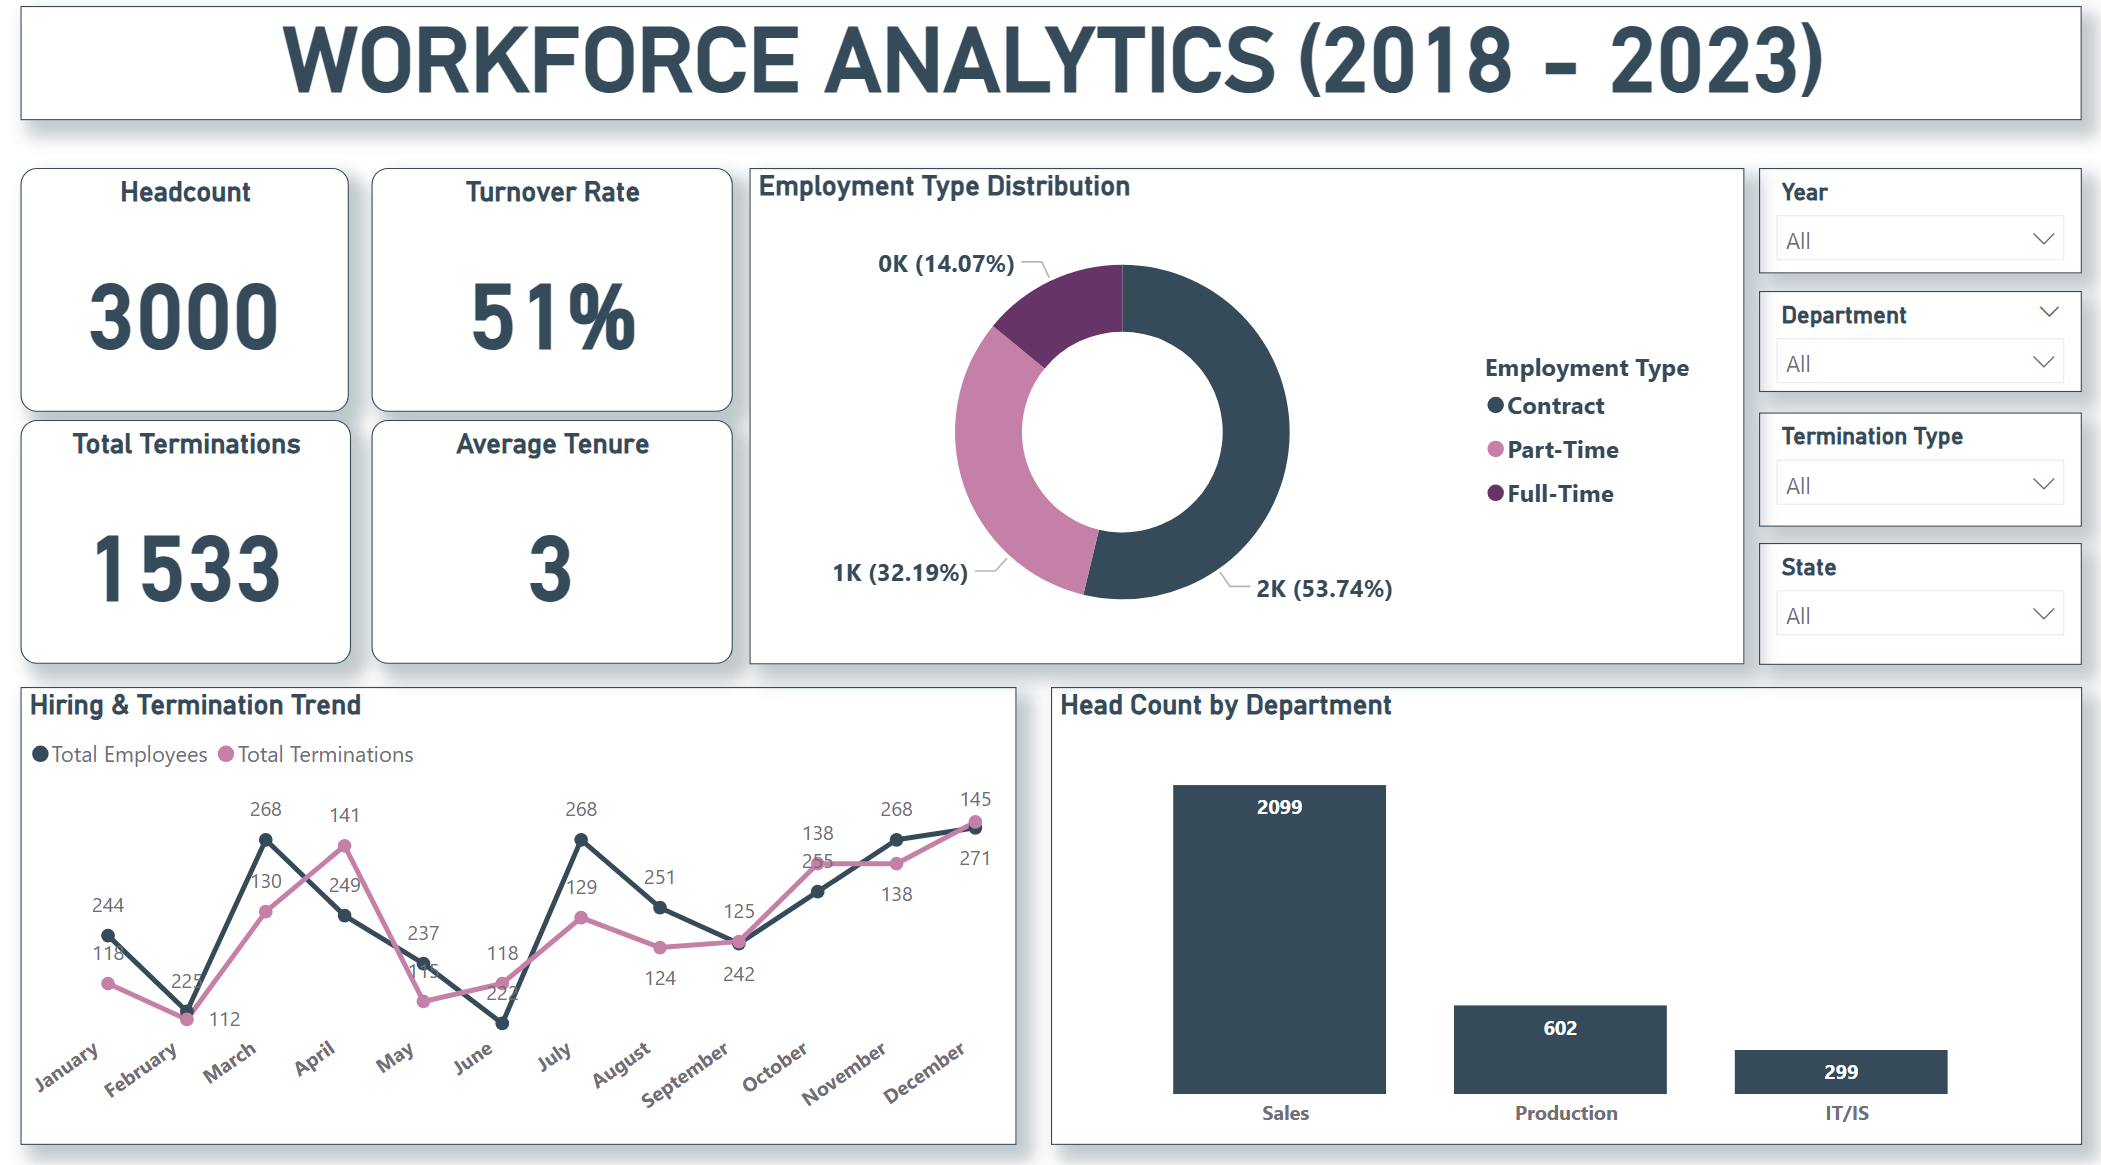

Layout of this report page (visuals, bound fields, positions):
{"tool":"powerbi","page":{"name":"Overview","canvas":[1280,720],"ordinal":0},"visuals":[{"type":"card","title":"Headcount","fields":{"Values":["KPI_TABLE.Total Employees"]},"box":[13.9,107.8,199.3,148.3],"z":0},{"type":"card","title":"Total Terminations","fields":{"Values":["KPI_TABLE.Total Terminations"]},"box":[13.9,260.7,200.5,148.3],"z":1000},{"type":"card","title":"Turnover Rate","fields":{"Values":["KPI_TABLE.Termination Rate"]},"box":[227.1,107.8,219,148.3],"z":2000},{"type":"clusteredColumnChart","title":"Head Count by Department","fields":{"Y":["KPI_TABLE.Total Employees"],"Category":["DIM_ORGANIZATION.DepartmentType"]},"box":[639.6,422.9,625.7,278.1],"z":3000},{"type":"slicer","fields":{"Values":["DIM_DATE.Year"]},"box":[1069.5,107.8,195.8,63.7],"z":4000},{"type":"slicer","fields":{"Values":["DIM_ORGANIZATION.DepartmentType"]},"box":[1069.5,181.9,195.8,61.4],"z":5000},{"type":"slicer","fields":{"Values":["DIM_ORGANIZATION.Division"]},"box":[1069.5,256.1,195.8,69.5],"z":6000},{"type":"lineChart","title":"Hiring & Termination Trend","fields":{"Y":["KPI_TABLE.Total Employees"],"Category":["DIM_DATE.MonthName"],"Y2":["KPI_TABLE.Total Terminations"]},"box":[13.9,422.9,604.9,278.1],"z":7000},{"type":"textbox","title":"WORKFORCE ANALYTICS (2018 - 2023)","box":[13.9,9.3,1251.4,69.5],"z":8000},{"type":"slicer","fields":{"Values":["DIM_LOCATION.State"]},"box":[1069.5,334.9,195.8,74.2],"z":9000},{"type":"card","title":"Average Tenure","fields":{"Values":["KPI_TABLE.Average Tenure"]},"box":[227.1,260.7,219,148.3],"z":10000},{"type":"donutChart","title":"Employment Type Distribution","fields":{"Y":["KPI_TABLE.Total Employees"],"Category":["DIMJOB_TEMP.EmployeeType"]},"box":[456.5,107.8,603.7,301.3],"z":11000}]}

Visuals, with their boxes in screenshot pixels (x1, y1, x2, y2), scaled from the page's 1280x720 canvas onto the 2101x1165 screenshot:
"Headcount" card: [23, 174, 350, 414]
"Total Terminations" card: [23, 422, 352, 662]
"Turnover Rate" card: [373, 174, 732, 414]
"Head Count by Department" clusteredColumnChart: [1050, 684, 2077, 1134]
slicer - DIM_DATE.Year: [1755, 174, 2077, 277]
slicer - DIM_ORGANIZATION.DepartmentType: [1755, 294, 2077, 394]
slicer - DIM_ORGANIZATION.Division: [1755, 414, 2077, 527]
"Hiring & Termination Trend" lineChart: [23, 684, 1016, 1134]
"WORKFORCE ANALYTICS (2018 - 2023)" textbox: [23, 15, 2077, 128]
slicer - DIM_LOCATION.State: [1755, 542, 2077, 662]
"Average Tenure" card: [373, 422, 732, 662]
"Employment Type Distribution" donutChart: [749, 174, 1740, 662]
